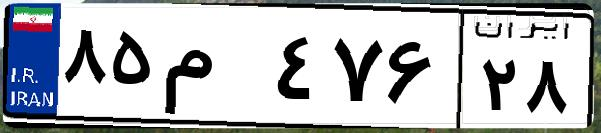2: (475, 38, 525, 113)
4: (270, 28, 330, 110)
5: (110, 28, 158, 98)
6: (385, 28, 445, 110)
7: (330, 28, 385, 110)
8: (57, 26, 110, 100), (525, 38, 570, 115)
م: (158, 20, 270, 120)
